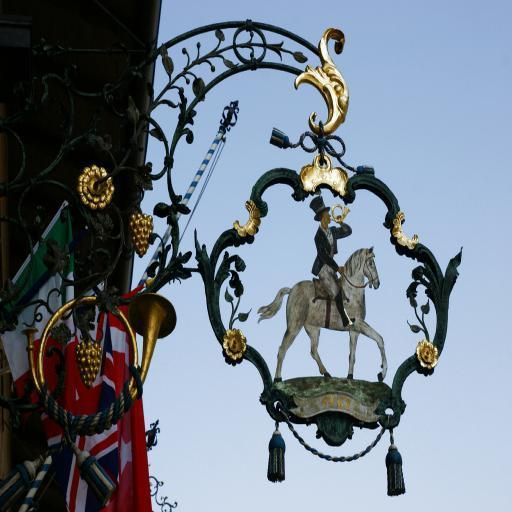horse: (258, 246, 390, 386)
